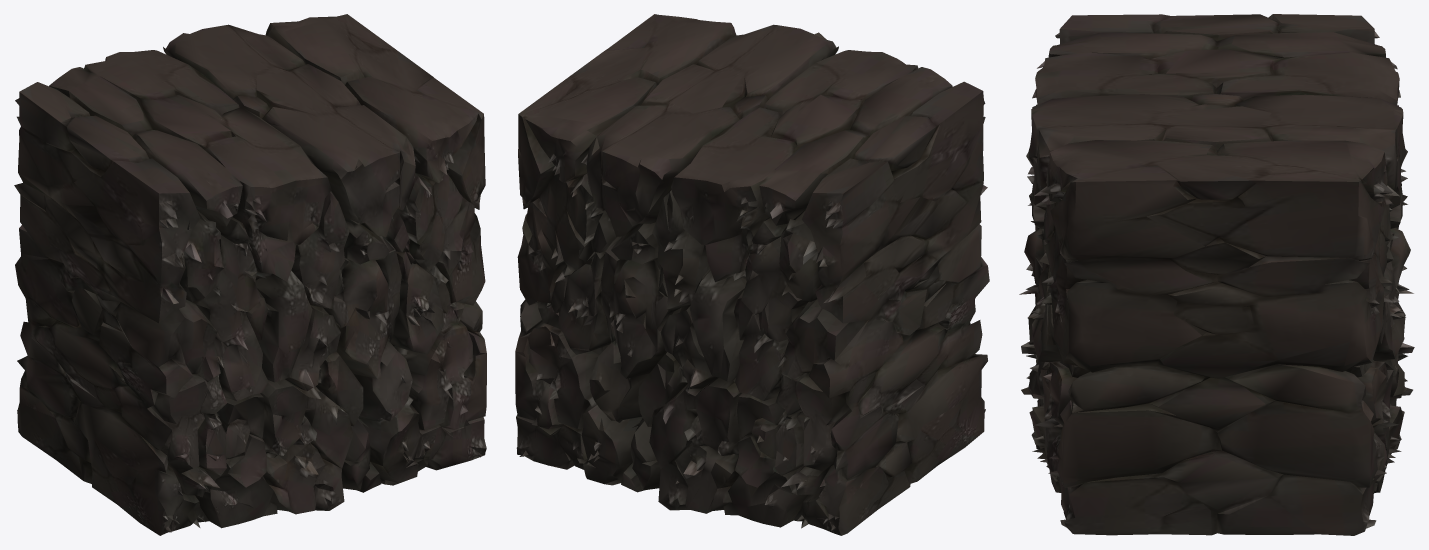
Rendered from block_dirt_cracked_idle.glb.
3 views of the same model, side by side, from view 1: azimuth 30°, elevation 25°; view 2: azimuth 150°, elevation 25°; view 3: azimuth 270°, elevation 25° (orthographic). The views are drawn at different scales.
Visible parts, largest first — view 1: tripo_node_50627dd4-80bf-4bcf-bb4d-a7d2bd77c186; view 2: tripo_node_50627dd4-80bf-4bcf-bb4d-a7d2bd77c186; view 3: tripo_node_50627dd4-80bf-4bcf-bb4d-a7d2bd77c186.
Part boxes in pixels (x1,y1,x2,y2): tripo_node_50627dd4-80bf-4bcf-bb4d-a7d2bd77c186: (14, 14, 486, 535); tripo_node_50627dd4-80bf-4bcf-bb4d-a7d2bd77c186: (515, 14, 989, 535); tripo_node_50627dd4-80bf-4bcf-bb4d-a7d2bd77c186: (1019, 14, 1414, 535).
Size of the model in its own units: 0.9992 by 0.9989 by 1.
Materials: 1 (1 with a texture image).
